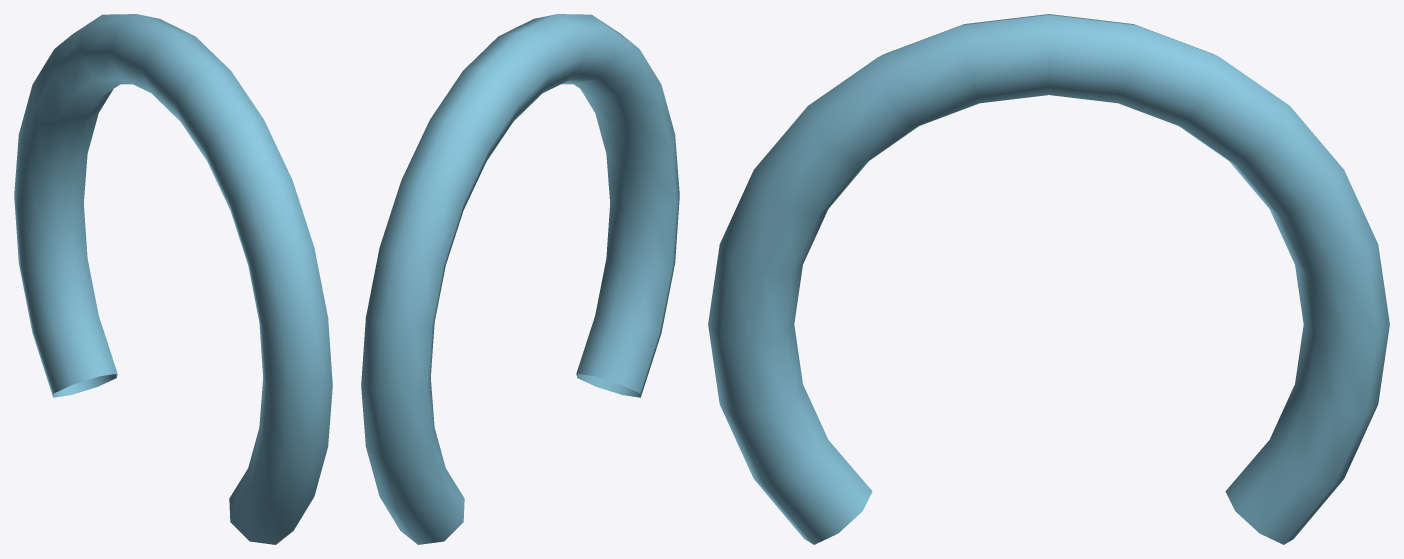
Rendered from posterior_semicircular_canal.glb.
3 renders of one model, left to right at view 1: azimuth 30°, elevation 25°; view 2: azimuth 150°, elevation 25°; view 3: azimuth 270°, elevation 25°, orthographic. The views are drawn at different scales.
Visible parts, largest first — view 1: SAMPLE posterior_semicircular_canal; view 2: SAMPLE posterior_semicircular_canal; view 3: SAMPLE posterior_semicircular_canal.
Boxes of the visible parts, bbox=[...] form: SAMPLE posterior_semicircular_canal: bbox=[14, 14, 332, 544]; SAMPLE posterior_semicircular_canal: bbox=[361, 14, 679, 544]; SAMPLE posterior_semicircular_canal: bbox=[708, 14, 1389, 544].
Size of the model in its own units: 0.84 by 5.63 by 6.64.
